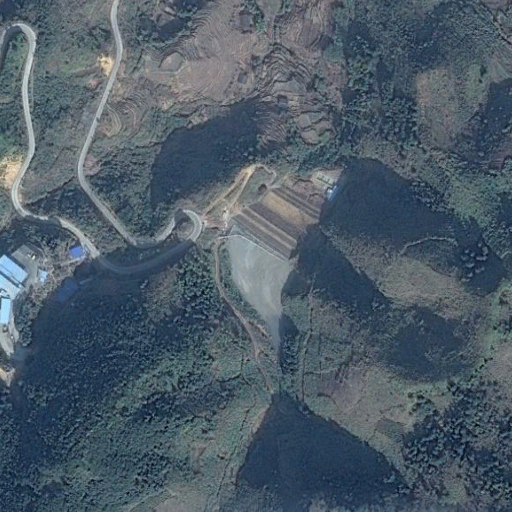tp: (215, 171, 333, 373)
